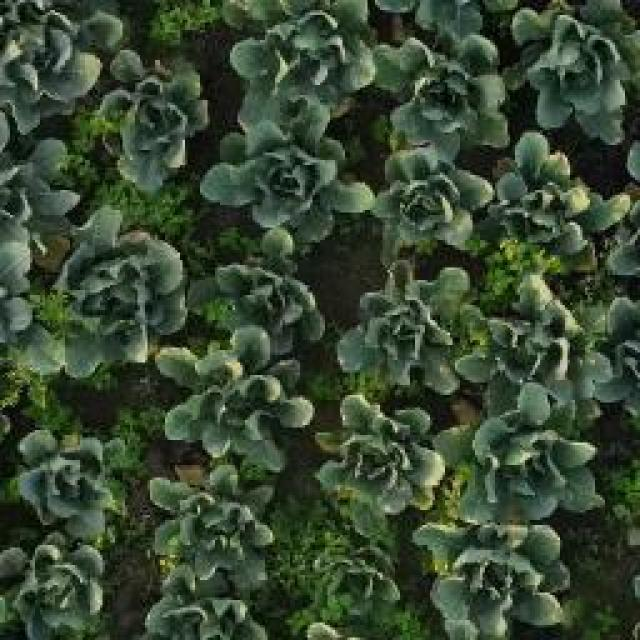cabbage: (200, 113, 375, 244), (52, 206, 191, 360), (153, 330, 313, 463), (446, 383, 594, 525), (334, 256, 477, 394), (468, 271, 607, 408), (415, 519, 571, 640), (222, 0, 381, 116), (507, 0, 635, 138), (142, 469, 279, 596), (374, 26, 510, 150), (318, 392, 446, 520), (485, 131, 597, 268), (366, 142, 496, 255), (10, 420, 125, 543), (96, 66, 211, 188), (0, 0, 112, 125), (211, 228, 326, 334), (0, 535, 108, 640), (319, 534, 411, 616)
